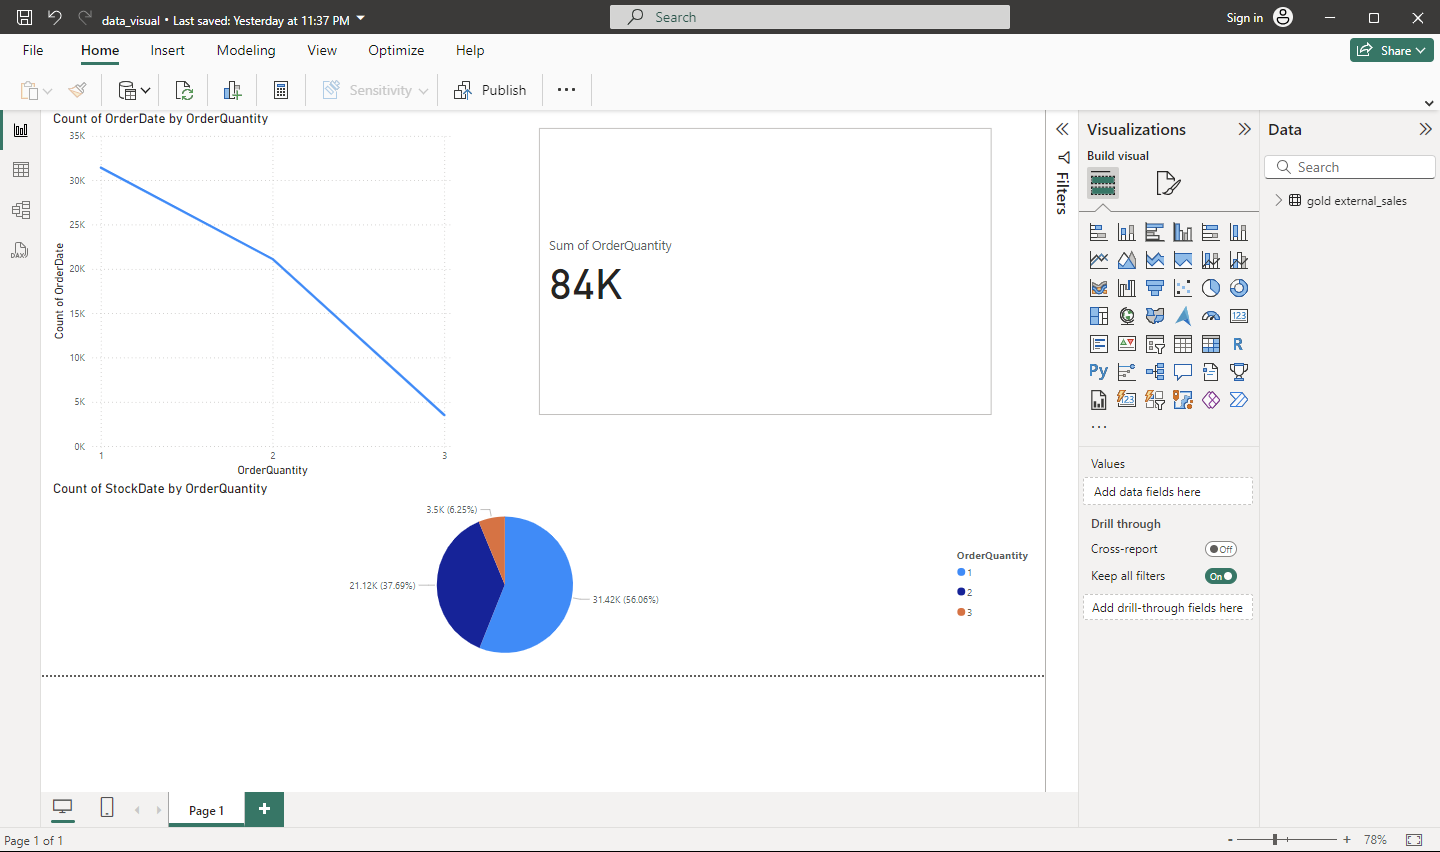

What the dashboard file says about the page in this screenshot:
{"tool":"powerbi","page":{"name":"Page 1","canvas":[1280,720],"ordinal":0},"visuals":[{"type":"lineChart","fields":{"Category":["gold external_sales.OrderQuantity"],"Y":["CountNonNull(gold external_sales.OrderDate)"]},"box":[10.7,0,519,471.6],"z":0},{"type":"cardVisual","fields":{"Data":["Sum(gold external_sales.OrderQuantity)"]},"box":[629.3,18.4,587.9,376.7],"z":1},{"type":"pieChart","fields":{"Y":["CountNonNull(gold external_sales.StockDate)"],"Category":["gold external_sales.OrderQuantity"]},"box":[10.7,471.6,1269.3,248],"z":2}]}

Visuals, with their boxes on the page's 1280x720 design canvas (x1, y1, x2, y2). These are canvas units, not pixel positions in the 1440x852 screenshot, which may show the page scaled, cropped or inside an application window:
lineChart - gold external_sales.OrderQuantity x CountNonNull(gold external_sales.OrderDate): {"x1": 11, "y1": 0, "x2": 530, "y2": 472}
cardVisual - Sum(gold external_sales.OrderQuantity): {"x1": 629, "y1": 18, "x2": 1217, "y2": 395}
pieChart - CountNonNull(gold external_sales.StockDate) x gold external_sales.OrderQuantity: {"x1": 11, "y1": 472, "x2": 1280, "y2": 720}
